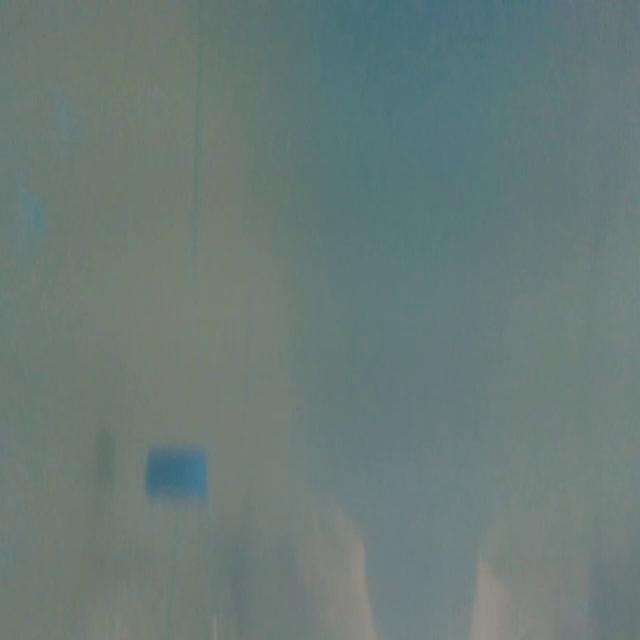plastic bottle: (88, 441, 253, 640)
